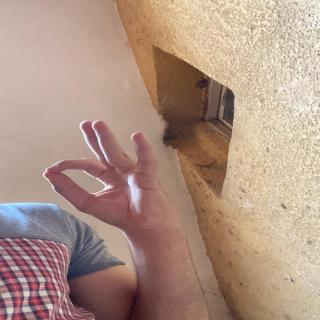Space: (41, 118, 169, 238)
